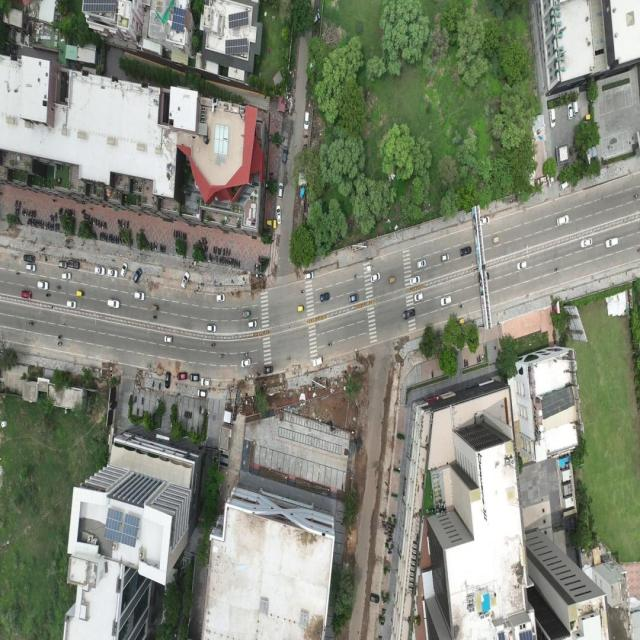3W: (489, 234, 503, 254), (584, 111, 593, 124), (388, 275, 397, 287), (273, 218, 279, 231)
Cars: (177, 270, 193, 290), (602, 228, 618, 248), (107, 295, 122, 314), (272, 202, 284, 225), (187, 368, 203, 385), (198, 373, 214, 390), (514, 257, 530, 273), (579, 235, 595, 251), (161, 368, 172, 391), (545, 106, 556, 129), (205, 320, 219, 338), (556, 211, 571, 227), (369, 588, 381, 608), (276, 179, 286, 202), (196, 388, 211, 403), (239, 358, 255, 372), (261, 362, 277, 376), (215, 290, 228, 307), (176, 368, 189, 385), (133, 287, 147, 302), (302, 267, 315, 283), (38, 277, 51, 292), (311, 358, 326, 371), (317, 291, 333, 303), (439, 295, 453, 308), (94, 264, 106, 279), (162, 332, 174, 347), (303, 108, 310, 133), (281, 142, 288, 167), (571, 98, 581, 115), (557, 178, 570, 191), (107, 267, 119, 281), (133, 263, 142, 281), (566, 101, 574, 121), (25, 263, 38, 275), (346, 290, 359, 302), (369, 272, 382, 284), (416, 256, 427, 270), (312, 11, 321, 27), (246, 320, 259, 331), (21, 289, 32, 301), (479, 214, 490, 226), (65, 297, 75, 310), (67, 259, 79, 269), (120, 261, 127, 278), (459, 246, 473, 254), (410, 276, 422, 285), (61, 273, 74, 281), (402, 311, 416, 318), (24, 254, 34, 263), (413, 293, 424, 301), (59, 261, 68, 269), (439, 253, 449, 260)
M2W: (550, 260, 561, 278), (630, 185, 640, 203), (216, 349, 227, 362), (323, 335, 333, 346), (299, 287, 308, 298), (353, 270, 360, 283), (365, 262, 378, 269), (56, 330, 65, 340), (56, 339, 66, 348), (457, 301, 466, 311), (111, 231, 117, 244), (27, 318, 35, 327), (153, 312, 159, 324), (126, 219, 131, 233), (154, 241, 160, 252), (45, 291, 52, 300), (44, 255, 50, 265), (104, 217, 108, 231), (100, 217, 104, 231), (15, 268, 21, 277), (139, 225, 145, 234), (122, 217, 126, 230), (29, 209, 34, 219), (242, 351, 249, 358), (286, 355, 293, 362), (40, 245, 46, 253), (172, 228, 176, 240), (130, 236, 134, 248), (101, 231, 105, 243), (209, 340, 216, 346), (17, 199, 22, 207), (44, 220, 48, 230), (56, 285, 62, 291), (14, 198, 18, 207), (229, 256, 232, 268), (105, 231, 108, 243), (108, 232, 111, 244), (116, 236, 120, 245), (60, 206, 63, 217), (58, 215, 62, 223), (238, 261, 242, 269), (218, 256, 222, 264), (17, 207, 20, 217), (25, 208, 28, 218), (38, 219, 41, 229), (236, 259, 239, 269), (164, 243, 167, 253), (99, 231, 102, 241), (27, 219, 30, 228), (30, 218, 33, 227), (41, 220, 44, 229), (49, 223, 52, 232), (55, 212, 58, 221), (54, 223, 57, 232), (58, 208, 61, 217), (209, 253, 212, 262), (15, 206, 17, 218), (22, 205, 24, 217), (36, 219, 39, 227), (52, 198, 56, 204), (81, 209, 85, 215), (49, 214, 52, 221), (57, 224, 60, 231), (73, 210, 76, 217), (64, 208, 67, 215), (225, 247, 228, 254), (215, 247, 218, 254), (213, 254, 216, 261), (234, 257, 236, 267), (224, 255, 226, 265), (29, 209, 31, 218), (35, 219, 37, 228), (48, 221, 50, 230), (52, 222, 54, 231), (70, 210, 73, 216), (219, 246, 221, 255), (33, 219, 35, 227), (89, 207, 93, 211), (228, 247, 230, 255), (52, 216, 54, 223), (69, 209, 71, 216), (67, 208, 69, 215), (84, 212, 87, 216), (83, 216, 86, 220)
